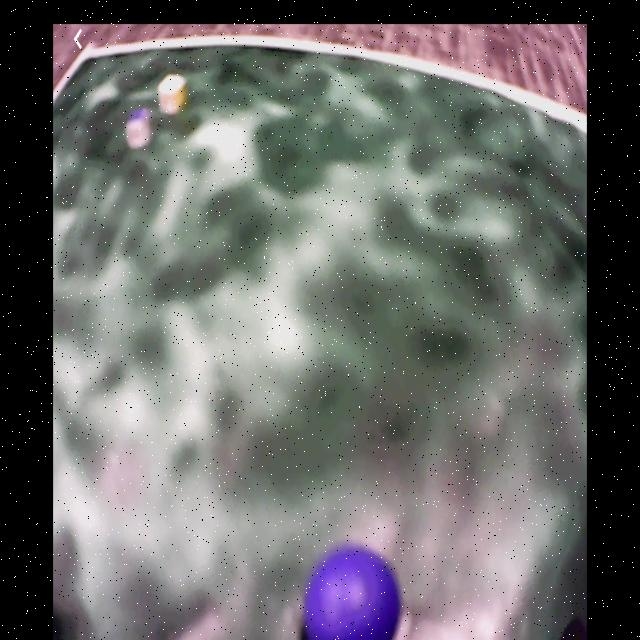ball: (302, 545, 398, 640)
